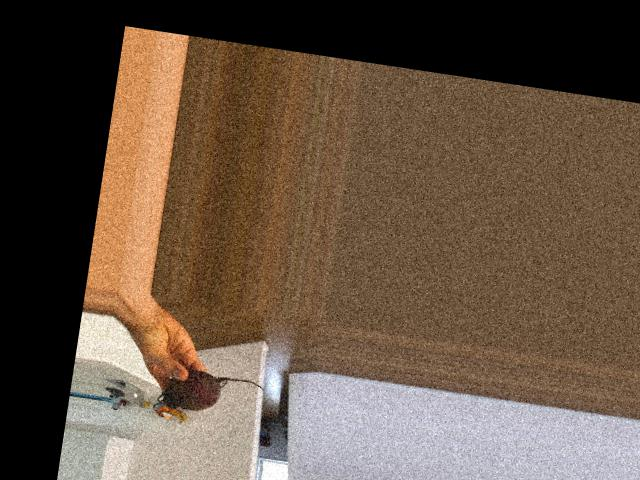beet: (157, 365, 267, 421)
